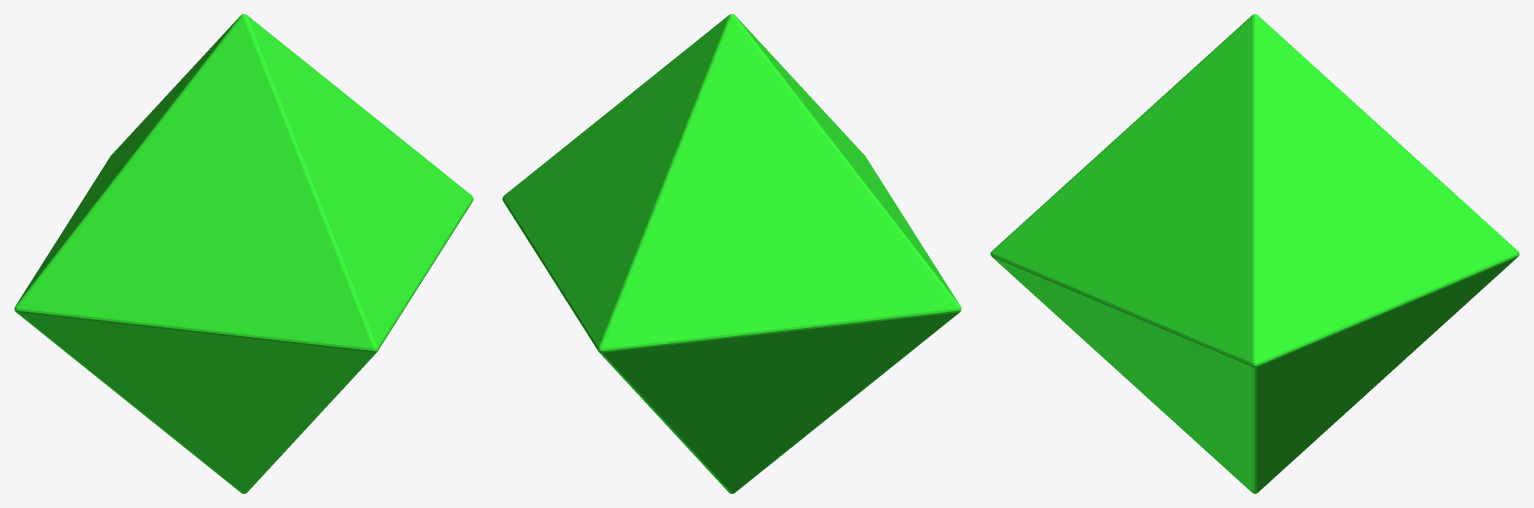
File: Octahedron.obj
3 views of the same model, side by side, from view 1: azimuth 30°, elevation 25°; view 2: azimuth 150°, elevation 25°; view 3: azimuth 270°, elevation 25° (orthographic).
Parts seen in each view (by area): view 1: Octahedron; view 2: Octahedron; view 3: Octahedron.
Boxes of the visible parts, left/top/right/bottom form: Octahedron: left=14, top=14, right=473, bottom=493; Octahedron: left=502, top=14, right=961, bottom=493; Octahedron: left=990, top=14, right=1519, bottom=493.
Bounding box in the file's own units: 1 × 1 × 1.
